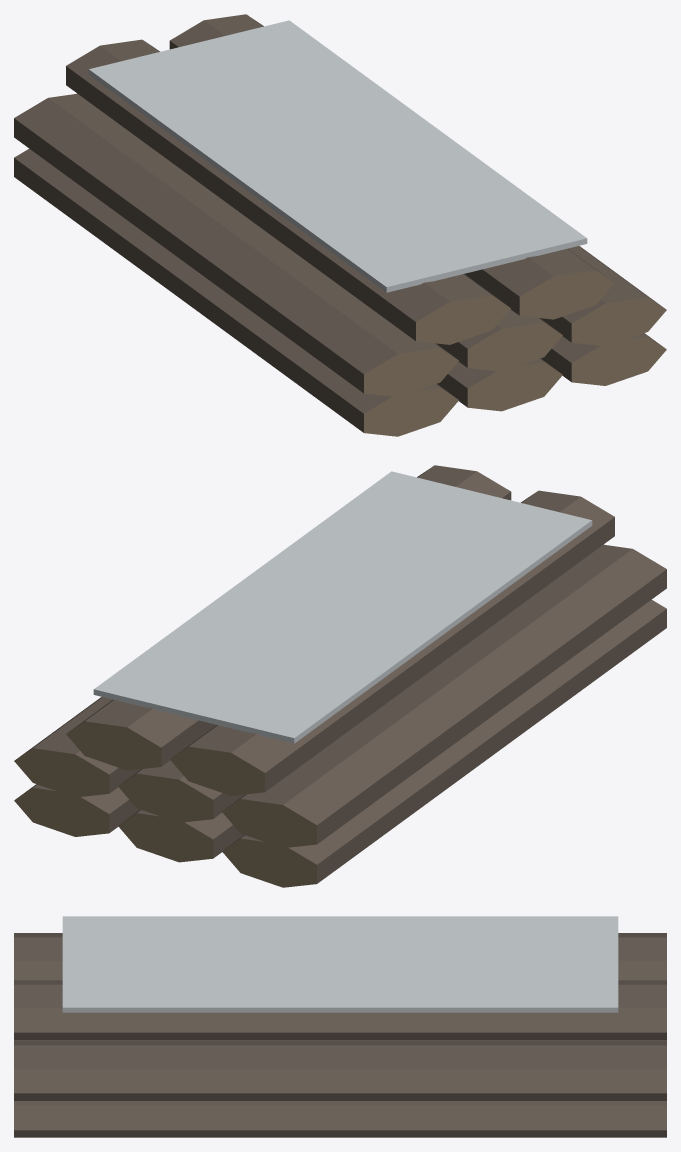
Rendered from log_stack_low.glb.
3 renders of one model, top to bottom at view 1: azimuth 30°, elevation 25°; view 2: azimuth 150°, elevation 25°; view 3: azimuth 270°, elevation 25°, orthographic. The views are drawn at different scales.
Visible parts, largest first — view 1: log_stack_low; view 2: log_stack_low; view 3: log_stack_low.
Part boxes in pixels (<box>): log_stack_low: <box>14,14,666,436</box>; log_stack_low: <box>14,465,666,887</box>; log_stack_low: <box>14,916,666,1137</box>.
Size of the model in its own units: 3 by 1.2 by 6.
